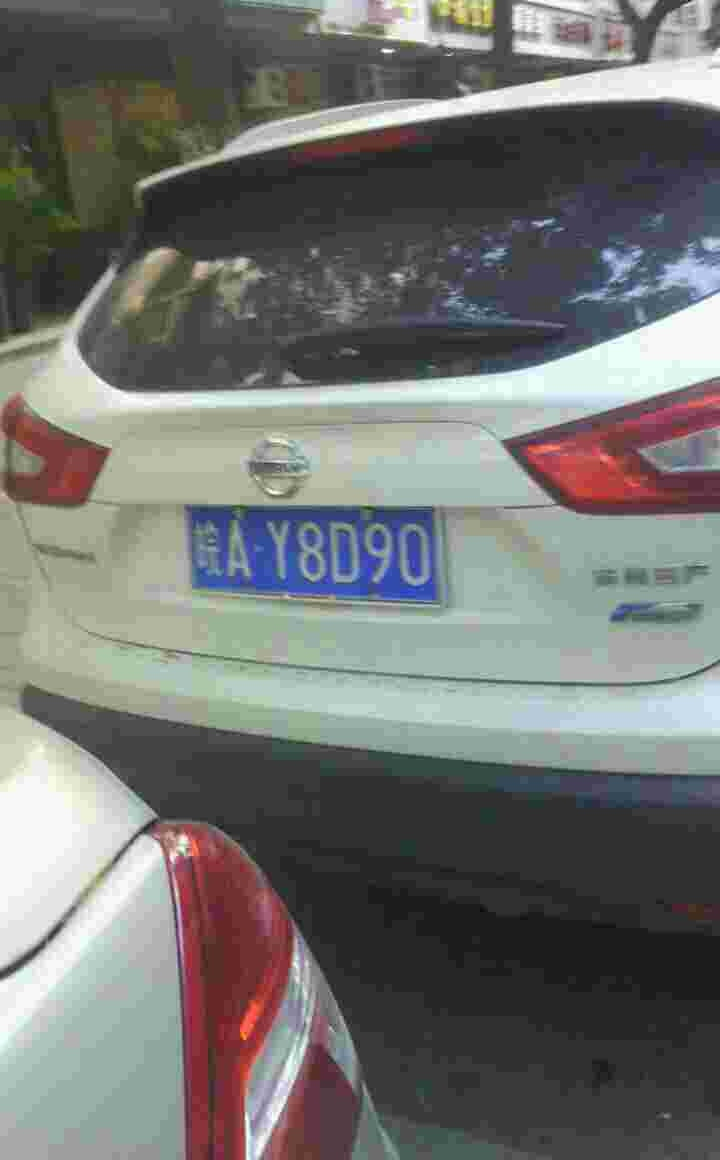license_plate: (189, 507, 441, 606)
